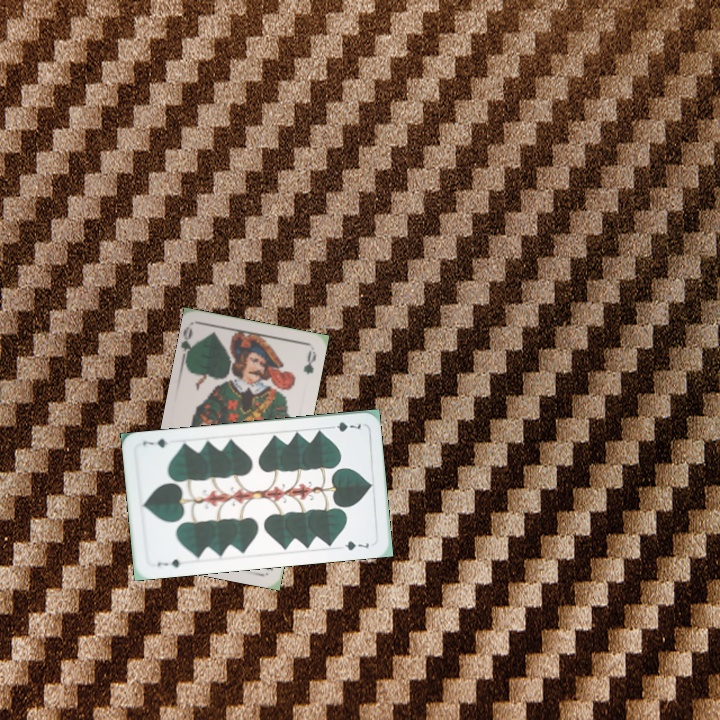G7: (324, 418, 364, 434), (153, 555, 188, 570)
GO: (177, 323, 200, 364)
